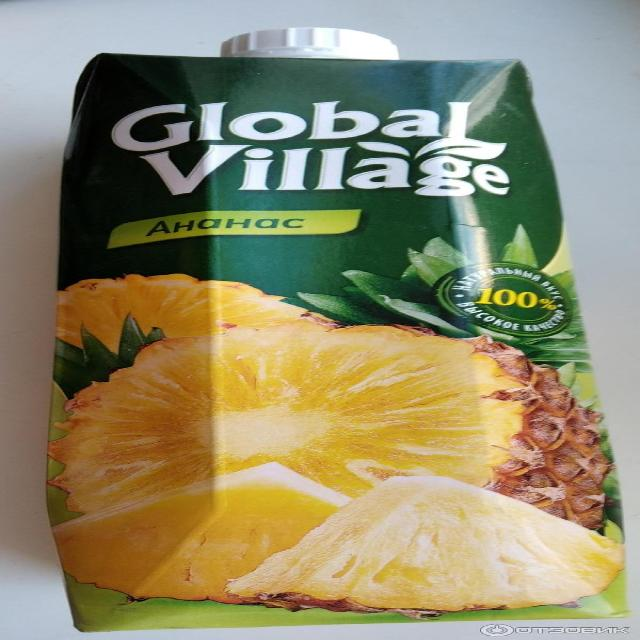Juice Global Village pineapple: (39, 27, 636, 626)
